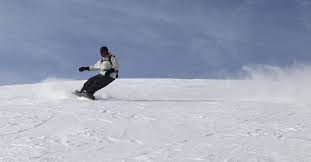snowboarder: (58, 47, 123, 101)
